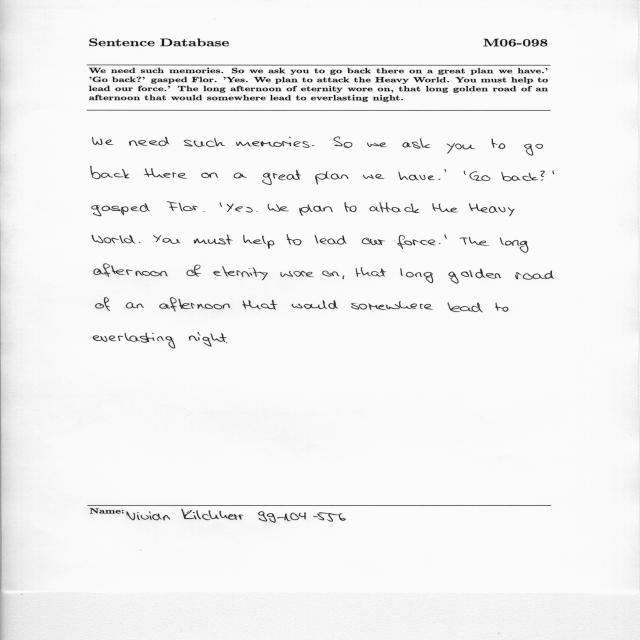word: (93, 333, 175, 349), (159, 298, 230, 312), (94, 264, 168, 277), (236, 137, 310, 148), (449, 269, 502, 284), (213, 266, 268, 280), (92, 203, 150, 216), (351, 301, 433, 310), (469, 203, 515, 216), (262, 170, 301, 185), (370, 202, 420, 213), (397, 235, 436, 249), (189, 333, 227, 347), (91, 166, 130, 179), (400, 268, 433, 283), (144, 168, 187, 179), (243, 234, 274, 249), (500, 237, 528, 253), (315, 171, 348, 184), (292, 300, 338, 309), (299, 204, 333, 216), (92, 235, 136, 244), (194, 235, 233, 245), (184, 138, 225, 147), (129, 137, 169, 146), (447, 303, 483, 313), (515, 271, 554, 280), (243, 300, 278, 310), (398, 172, 435, 181), (501, 172, 538, 181), (167, 202, 198, 212), (356, 267, 387, 277), (447, 143, 475, 154), (315, 235, 347, 244), (403, 139, 431, 149), (460, 237, 489, 246), (153, 235, 181, 244), (227, 204, 253, 213), (432, 203, 458, 212), (524, 144, 543, 156), (470, 171, 491, 181), (334, 137, 353, 148), (280, 271, 314, 277), (96, 298, 110, 311), (93, 137, 114, 145), (268, 204, 289, 212), (362, 238, 386, 245), (187, 265, 201, 277), (287, 235, 302, 246), (492, 138, 505, 149), (496, 302, 509, 312), (126, 302, 144, 309), (345, 202, 357, 212), (364, 174, 385, 179), (322, 271, 339, 277), (367, 142, 387, 147), (202, 173, 219, 178), (234, 173, 247, 179), (540, 171, 545, 181), (444, 234, 447, 239), (464, 170, 466, 175), (220, 202, 222, 207), (553, 171, 555, 175), (343, 276, 345, 280), (438, 178, 441, 180), (445, 169, 446, 173), (312, 145, 315, 146), (203, 211, 205, 212), (139, 242, 140, 243), (439, 243, 440, 244), (226, 343, 227, 344), (256, 212, 258, 212)
